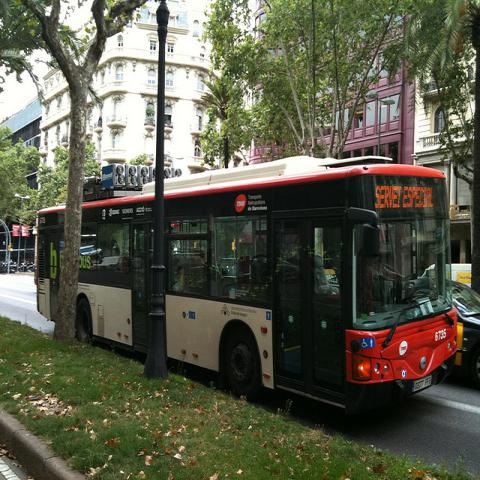bus: (34, 153, 462, 408)
car: (453, 280, 479, 386)
